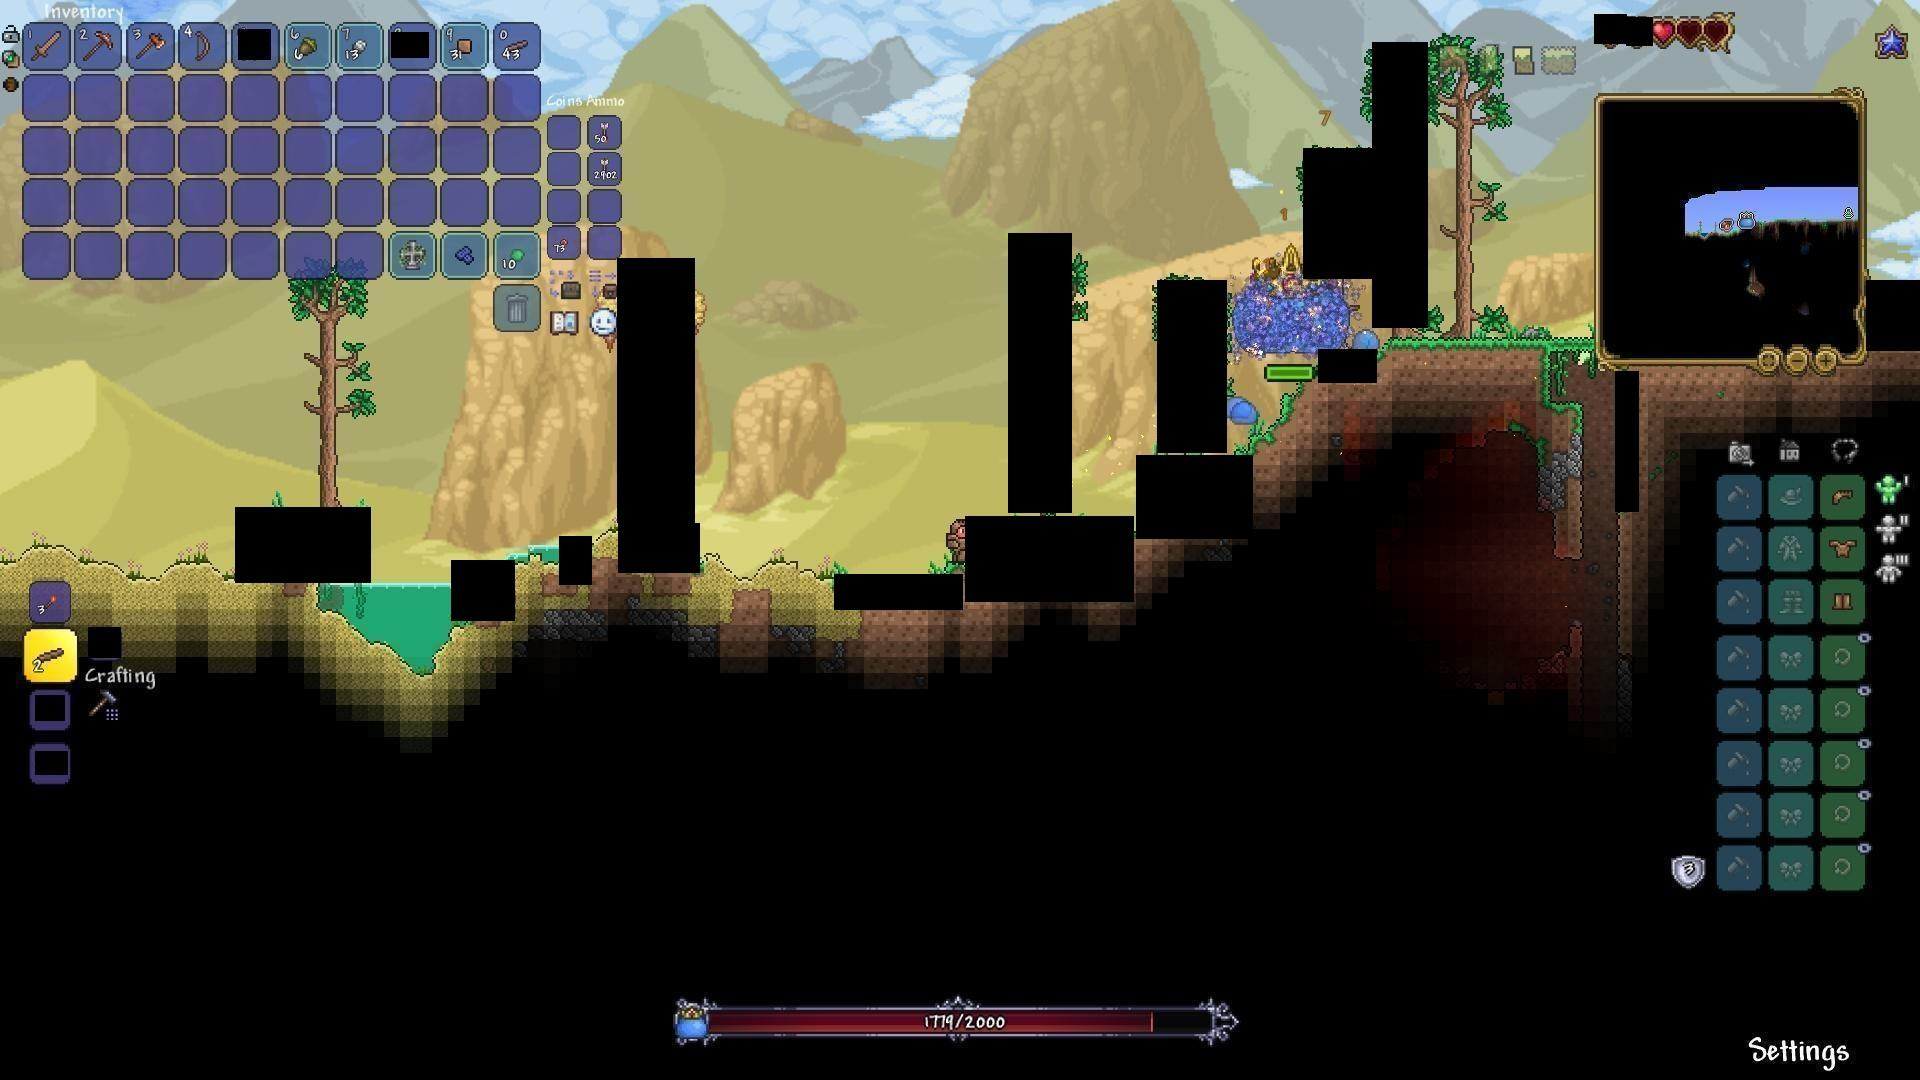breastplate: (1829, 537, 1859, 559)
dirt: (1381, 334, 1586, 435), (1262, 385, 1304, 455)
heart: (1650, 17, 1677, 46)
helmet: (1826, 483, 1859, 510)
legs: (1830, 587, 1855, 616)
slime: (1348, 328, 1385, 353), (1226, 397, 1259, 425)
tree: (1437, 37, 1502, 327), (294, 282, 371, 506)
